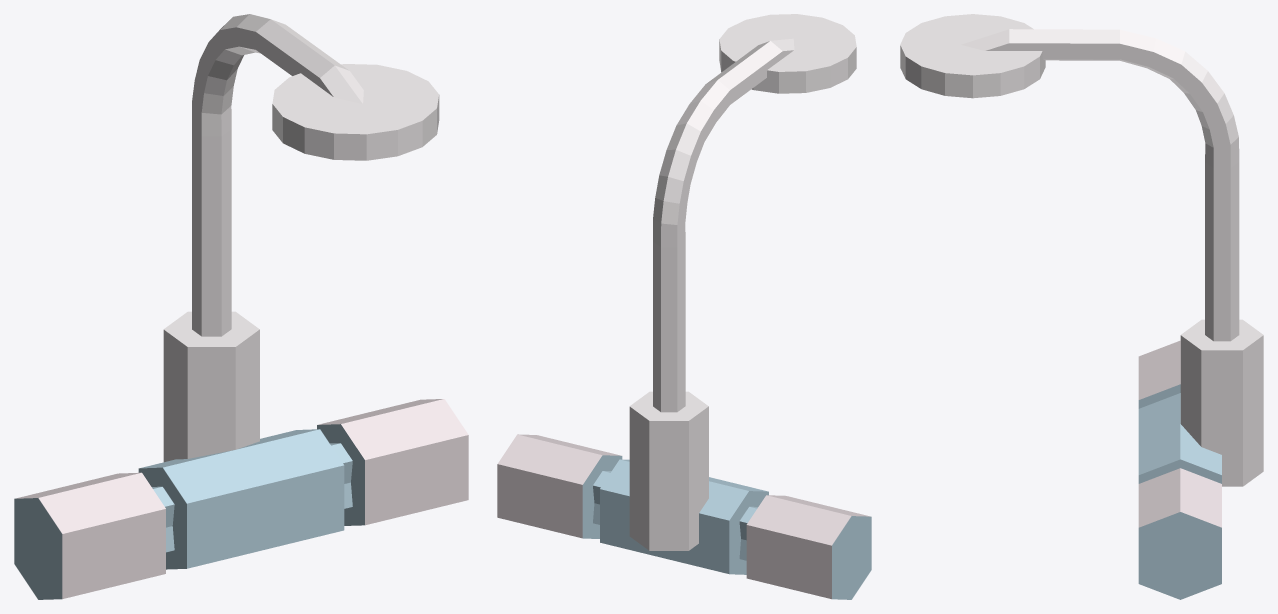
Rendered from SM_Shower.fbx.
3 views of the same model, side by side, from view 1: azimuth 30°, elevation 25°; view 2: azimuth 150°, elevation 25°; view 3: azimuth 270°, elevation 25° (orthographic). The views are drawn at different scales.
Parts seen in each view (by area): view 1: SM_Shower; view 2: SM_Shower; view 3: SM_Shower.
Part boxes in pixels (x1,y1,x2,y2): SM_Shower: [14, 14, 468, 599]; SM_Shower: [497, 14, 871, 599]; SM_Shower: [900, 14, 1263, 599].
Size of the model in its own units: 243 by 320 by 218.
